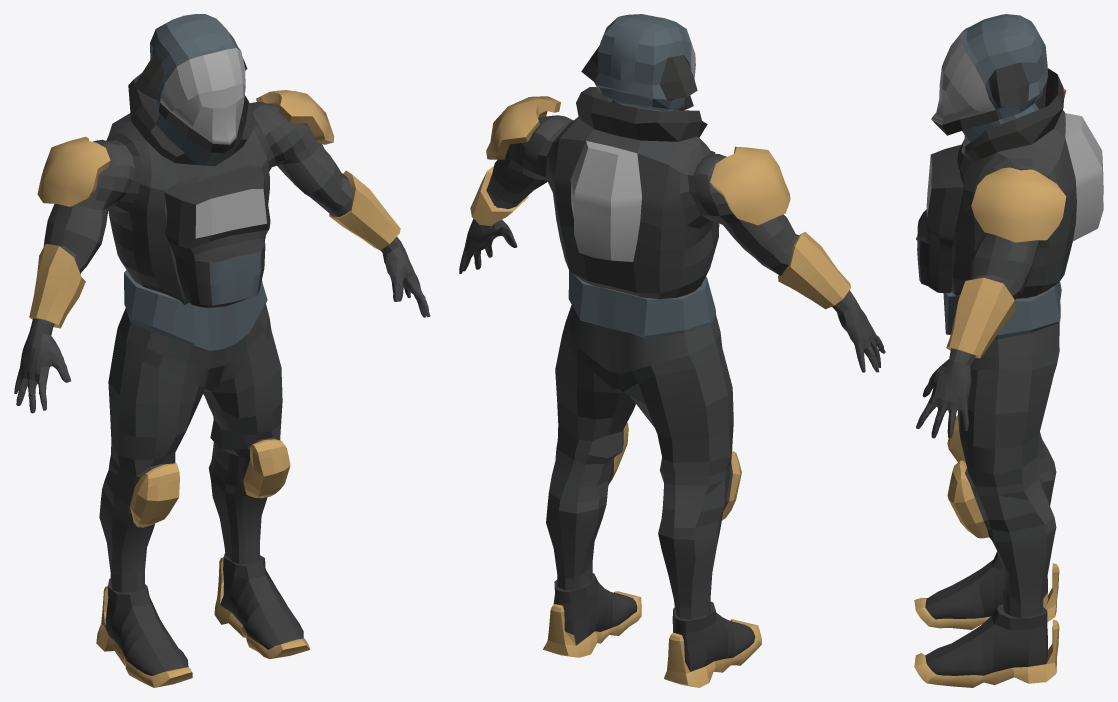
The model's file is Segurança.fbx.
3 views of the same model, side by side, from view 1: azimuth 30°, elevation 25°; view 2: azimuth 150°, elevation 25°; view 3: azimuth 270°, elevation 25° (orthographic). The views are drawn at different scales.
Parts seen in each view (by area): view 1: Upper_Body, Pants, Shoe, Chestplate, Arm_Guard, Shoulder_Pad; view 2: Upper_Body, Pants, Shoe, Shoulder_Pad, Arm_Guard; view 3: Upper_Body, Pants, Shoe, Shoulder_Pad, Chestplate, Arm_Guard.
Part boxes in pixels (x1,y1,x2,y2): Upper_Body: [14, 14, 430, 413]; Pants: [99, 270, 290, 592]; Shoe: [96, 553, 310, 687]; Chestplate: [164, 166, 270, 308]; Arm_Guard: [29, 170, 400, 328]; Shoulder_Pad: [37, 90, 334, 206]; Upper_Body: [459, 14, 885, 372]; Pants: [546, 270, 741, 619]; Shoe: [543, 573, 761, 687]; Shoulder_Pad: [486, 96, 790, 225]; Arm_Guard: [470, 166, 850, 309]; Upper_Body: [916, 14, 1103, 438]; Pants: [943, 282, 1061, 617]; Shoe: [914, 551, 1059, 687]; Shoulder_Pad: [971, 88, 1066, 242]; Chestplate: [917, 144, 964, 293]; Arm_Guard: [946, 277, 1015, 358].
Size of the model in its own units: 134 by 196 by 53.51.
